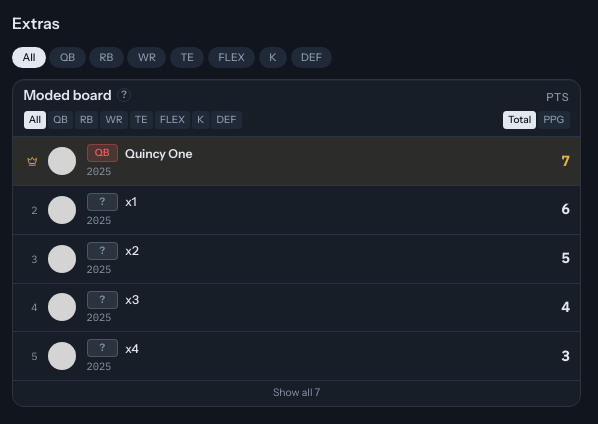
Test: Section › passes the chosen mode to a moded board and keeps it per board
Expected: the list item "2 ? x1 2025 6" is shown, [13,186,580,235]
Click the button "PPG". click: click(554, 120)
box: [538,111,570,129]
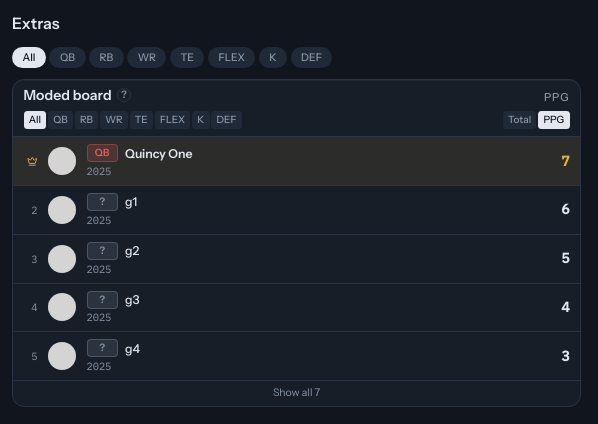
Now the list item "2 ? g1 2025 6" is shown, box [13,186,580,235]
